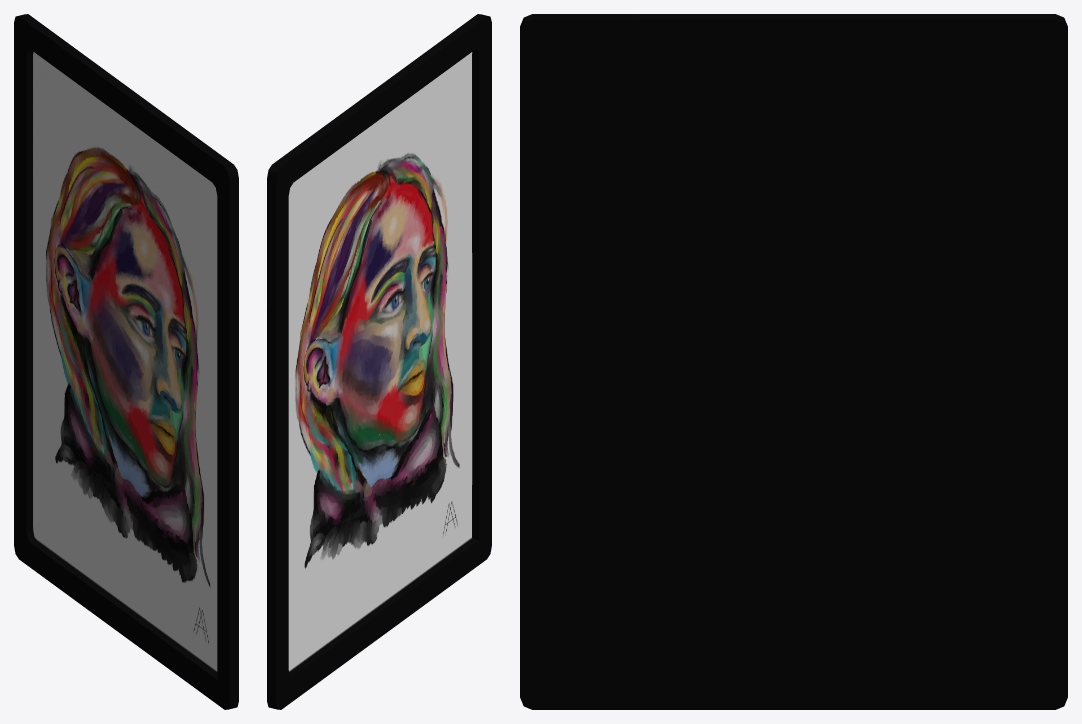
The model's file is painting_silvana 1.fbx.
The picture shows the model from 3 angles, left to right: view 1: azimuth 30°, elevation 25°; view 2: azimuth 150°, elevation 25°; view 3: azimuth 270°, elevation 25°; orthographic projection. The views are drawn at different scales.
Visible parts, largest first — view 1: pCube41; view 2: pCube41; view 3: pCube41.
Part boxes in pixels (x1=…): pCube41: x1=14, y1=14, x2=238, y2=709; pCube41: x1=267, y1=14, x2=491, y2=709; pCube41: x1=520, y1=14, x2=1067, y2=709.
Size of the model in its own units: 0.0208 by 1.16 by 0.8323.
